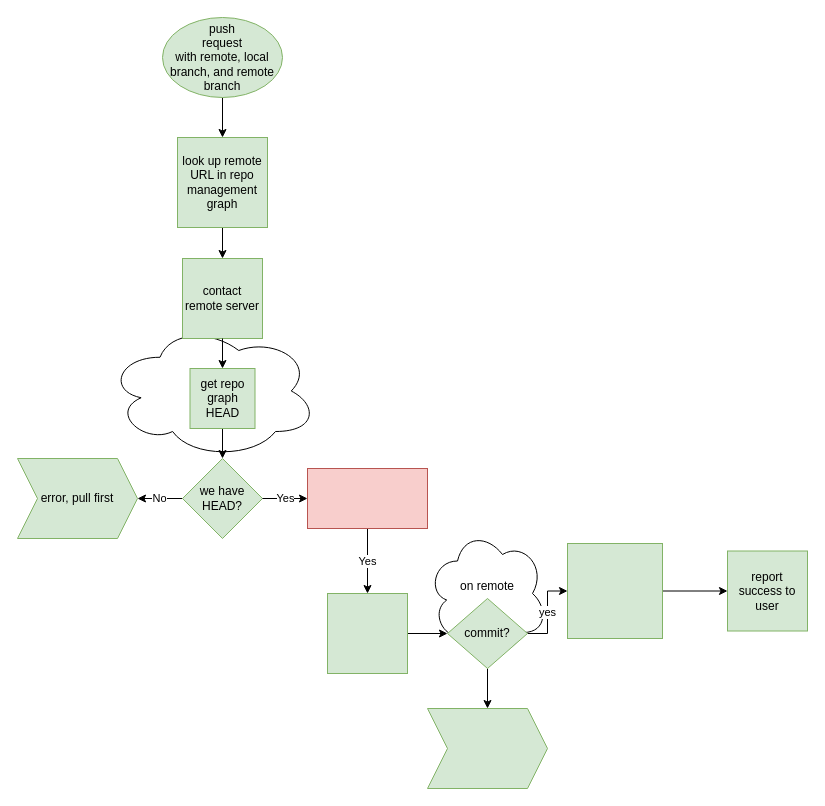
Some shapes in this 825 by 806 pixel diagram are drawn without their labels. The centre of each missing label's shape, as x and y in pixels:
errror, pull first: (x=487, y=748)
Pack the layers: (x=367, y=498)
update repo graph with label of pushed data and branch pushed to: (x=614, y=590)
upload layers: (x=367, y=633)
